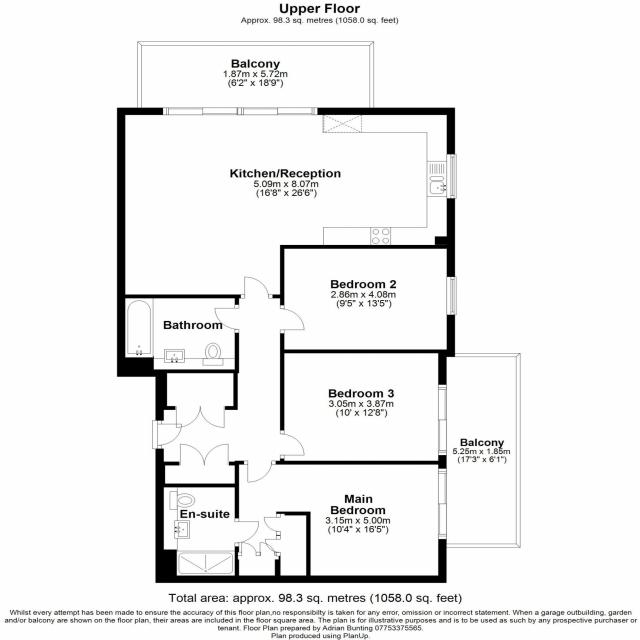DOOR: (152, 420, 183, 449), (241, 274, 273, 299), (211, 304, 239, 332), (279, 430, 306, 459), (244, 461, 276, 484), (280, 305, 306, 333), (235, 518, 260, 547)
ROOM: (116, 107, 455, 298), (234, 460, 447, 583), (279, 236, 455, 354), (279, 349, 446, 465)
WINDOW: (160, 104, 320, 119), (436, 382, 450, 456), (437, 467, 450, 541), (444, 151, 460, 200), (445, 271, 460, 316)
